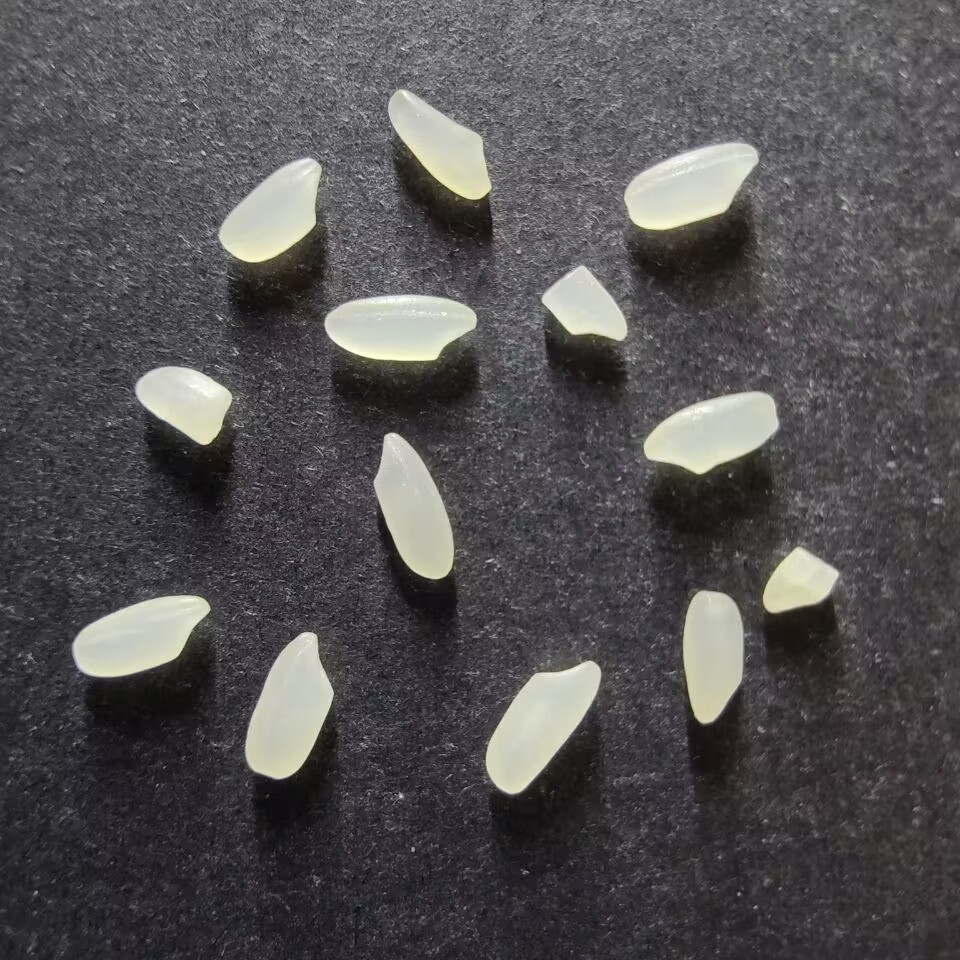broken: (134, 365, 233, 446), (540, 265, 628, 343), (760, 548, 841, 613)
rice: (484, 659, 601, 794), (244, 631, 333, 779), (372, 432, 454, 581), (623, 142, 760, 230), (386, 89, 491, 200), (71, 594, 211, 677), (642, 391, 779, 474), (217, 157, 321, 262), (323, 294, 477, 362), (682, 589, 744, 725)
